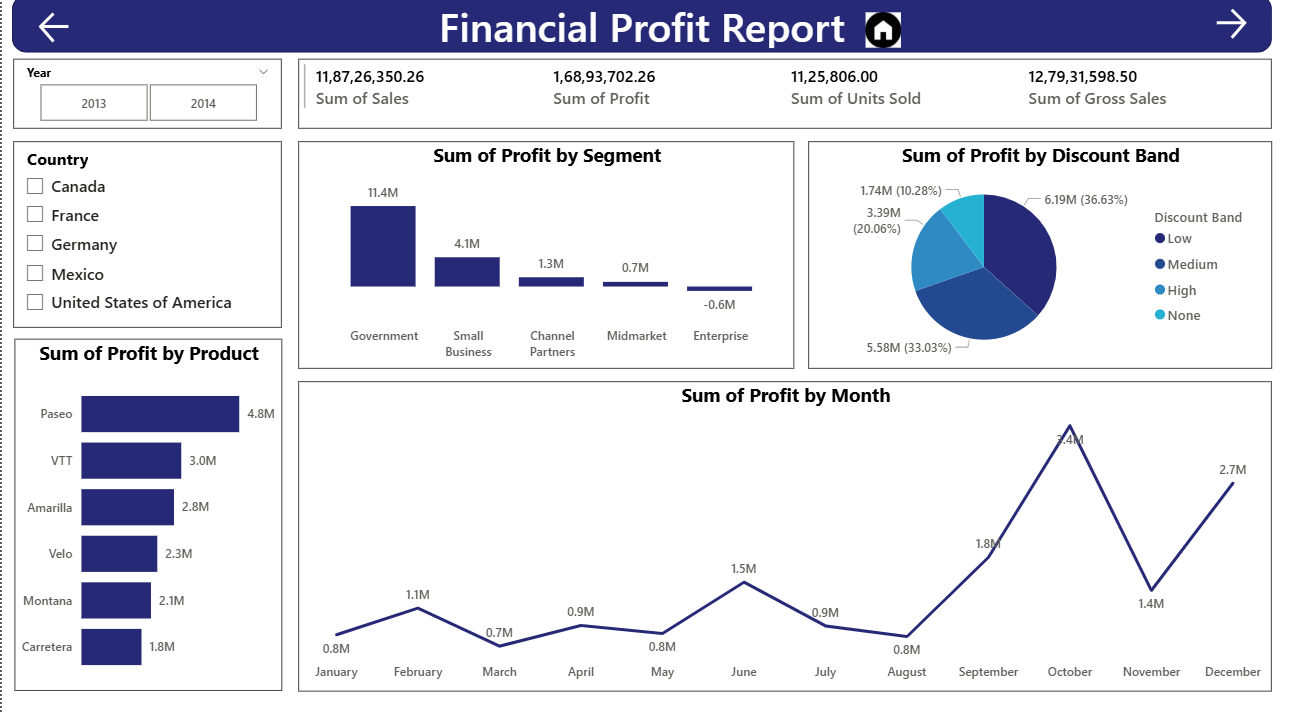

What the dashboard file says about the page in this screenshot:
{"tool":"powerbi","page":{"name":"Profit Report","canvas":[1280,720],"ordinal":2},"visuals":[{"type":"shape","box":[10,0,1253.9,57.2],"z":0},{"type":"multiRowCard","fields":{"Values":["Sum(financials.Sales)","Sum(financials.Profit)","Sum(financials.Units Sold)","Sum(financials.Gross Sales)"]},"box":[294.8,63.4,969,69.7],"z":1000},{"type":"slicer","fields":{"Values":["financials.Country"]},"box":[11.2,145.5,267.5,185.3],"z":2000},{"type":"slicer","fields":{"Values":["financials.Year"]},"box":[11.2,63.4,267.5,69.7],"z":3000},{"type":"barChart","fields":{"Category":["financials.Product"],"Y":["Sum(financials.Profit)"]},"box":[12.4,342.1,266.2,350.8],"z":4000},{"type":"columnChart","fields":{"Category":["financials.Segment"],"Y":["Sum(financials.Profit)"]},"box":[294.8,145.5,493.9,226.4],"z":5000},{"type":"pieChart","fields":{"Category":["financials.Discount Band"],"Y":["Sum(financials.Profit)"]},"box":[802.4,145.5,461.5,226.4],"z":6000},{"type":"lineChart","fields":{"Category":["financials.Date.Variation.Date Hierarchy.Month"],"Y":["Sum(financials.Profit)"]},"box":[294.8,384.4,969,308.5],"z":7000},{"type":"image","box":[854.6,12.4,44.8,44.8],"z":8000},{"type":"actionButton","box":[32.3,12.4,43.5,39.8],"z":9000},{"type":"actionButton","box":[1202.9,8.7,41.1,39.8],"z":10000}]}

Visuals, with their boxes in screenshot pixels (x1, y1, x2, y2), scaled from the page's 1280x720 canvas onto the 1289x714 screenshot:
shape: box(10, 0, 1273, 57)
multiRowCard - Sum(financials.Sales) x Sum(financials.Profit): box(297, 63, 1273, 132)
slicer - financials.Country: box(11, 144, 281, 328)
slicer - financials.Year: box(11, 63, 281, 132)
barChart - financials.Product x Sum(financials.Profit): box(12, 339, 281, 687)
columnChart - financials.Segment x Sum(financials.Profit): box(297, 144, 794, 369)
pieChart - financials.Discount Band x Sum(financials.Profit): box(808, 144, 1273, 369)
lineChart - financials.Date.Variation.Date Hierarchy.Month x Sum(financials.Profit): box(297, 381, 1273, 687)
image: box(861, 12, 906, 57)
actionButton: box(33, 12, 76, 52)
actionButton: box(1211, 9, 1253, 48)
